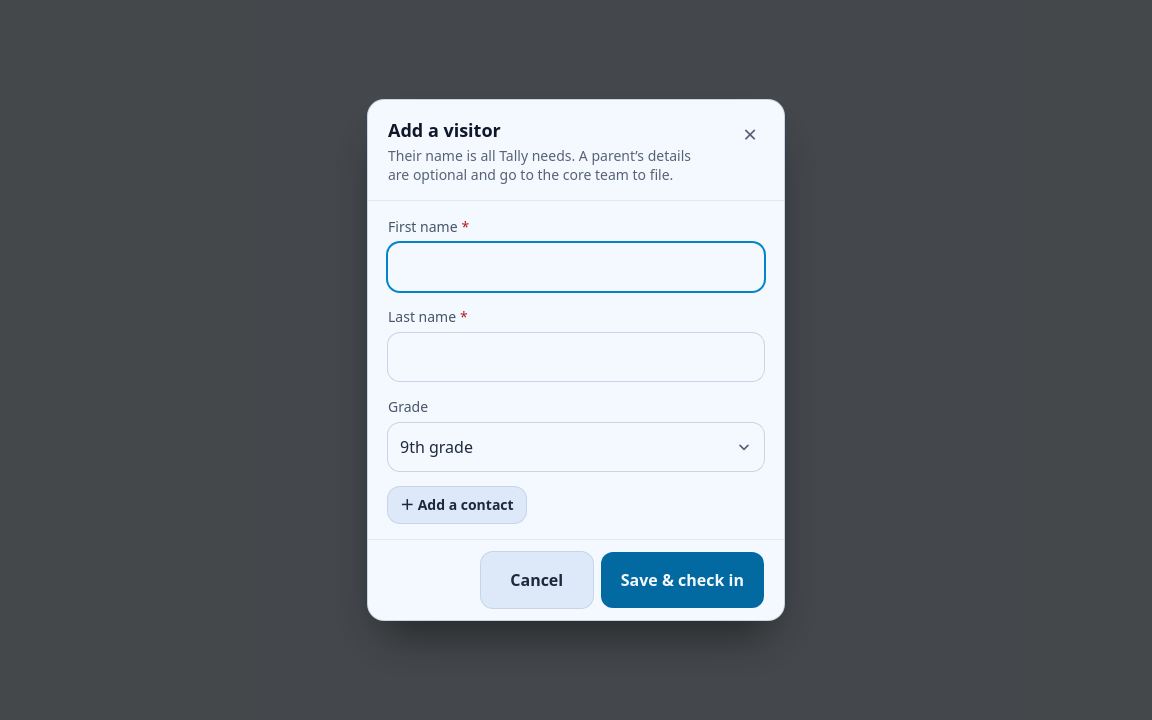
Test: the contact › opens with the surname already carried across
Type "Robin" into the field labelled "First name*" at [576, 267], box left=388, top=243, right=764, bottom=291
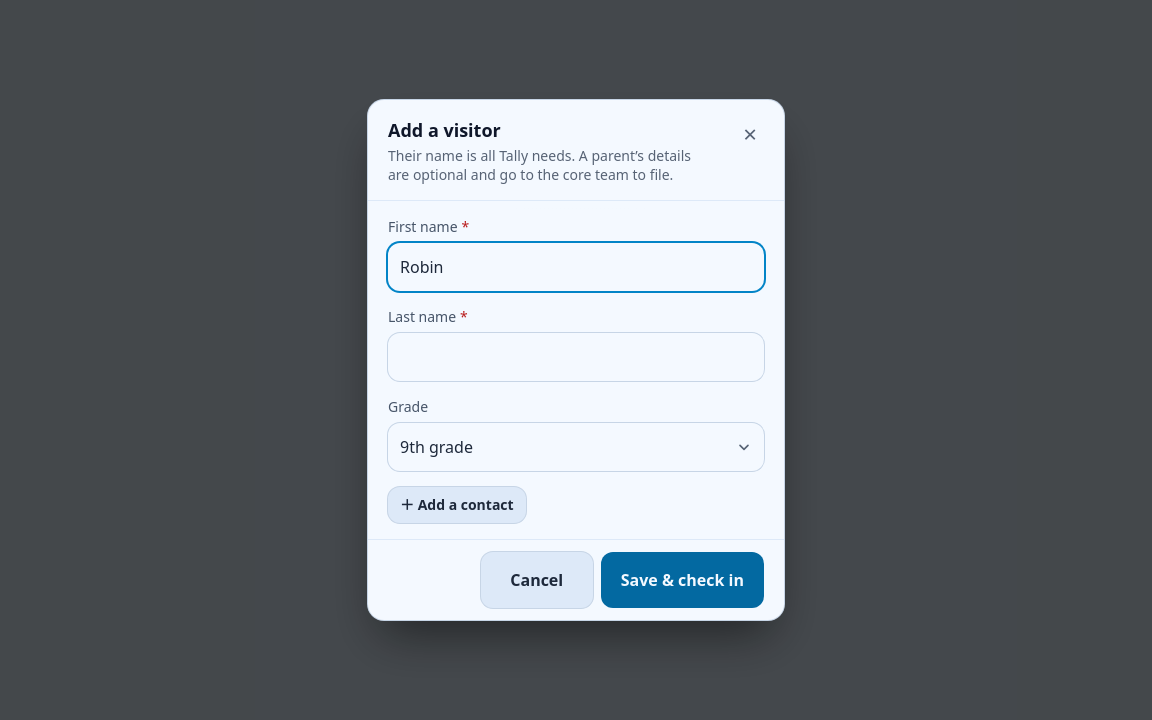
Type "Fields" into the field labelled "Last name*" at [576, 357], box left=388, top=333, right=764, bottom=381
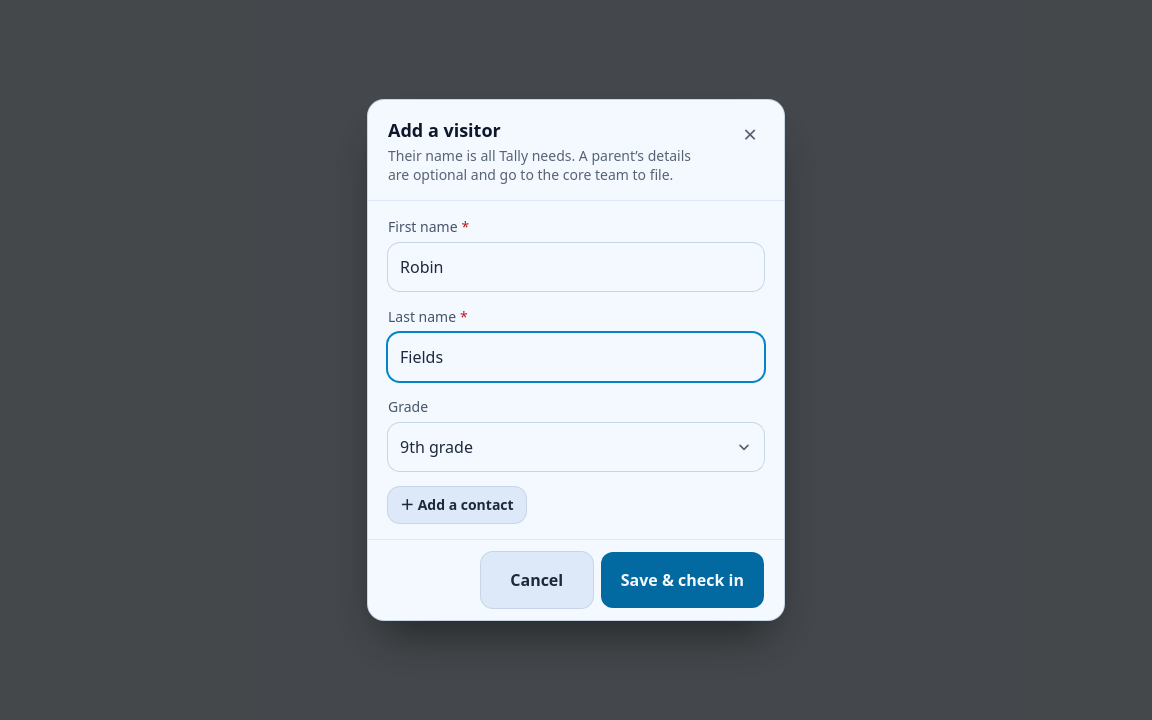
Click the button "＋ Add a contact" at [457, 505], box left=388, top=487, right=526, bottom=523
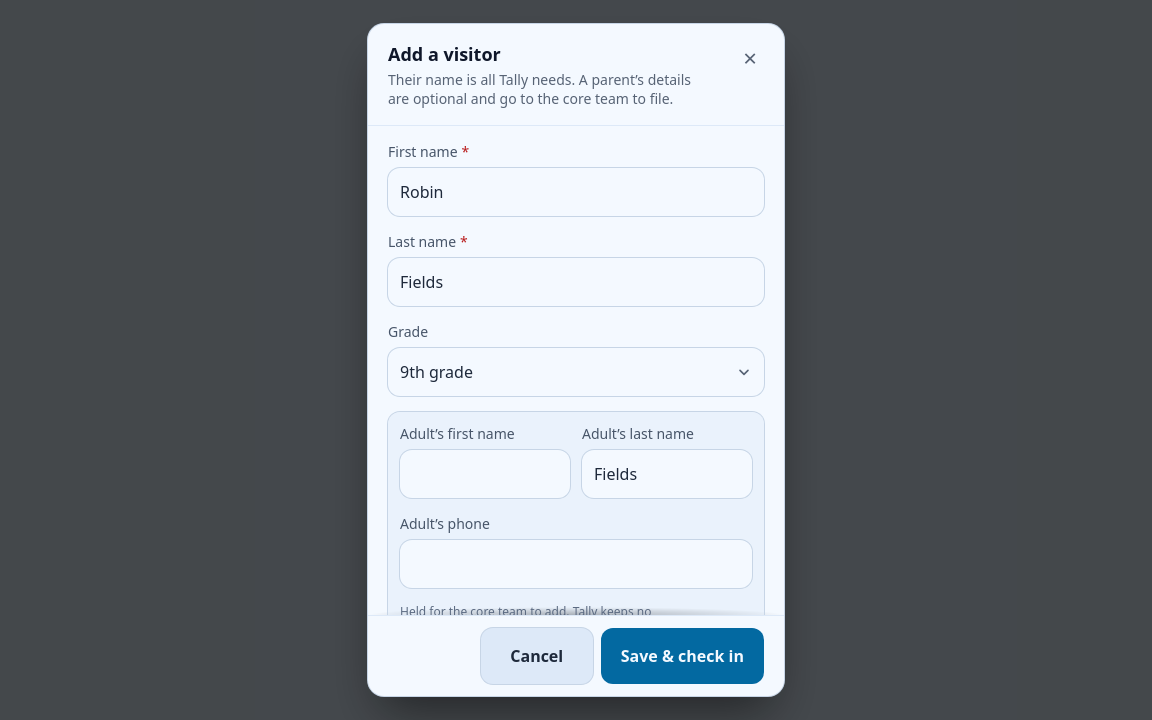
Result: the field labelled "Adult’s last name" holds "Fields" at left=582, top=450, right=752, bottom=498
Result: the field labelled "Adult’s first name" is empty at left=400, top=450, right=570, bottom=498
